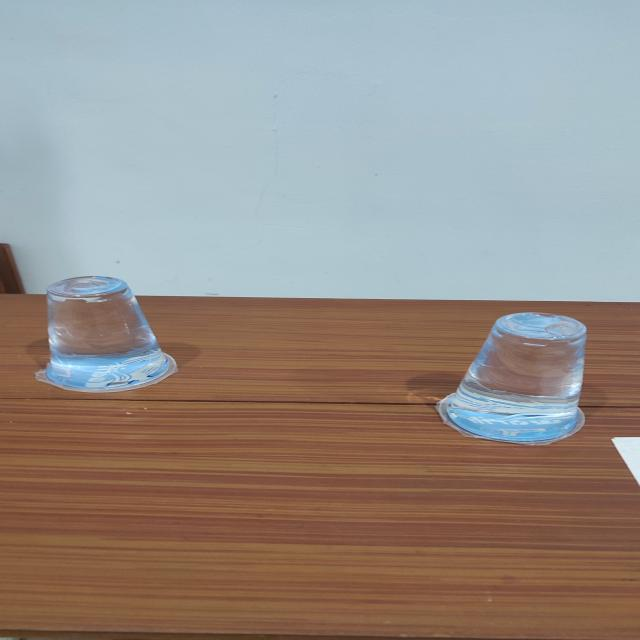air gelas: (426, 306, 614, 451), (26, 273, 183, 389)
